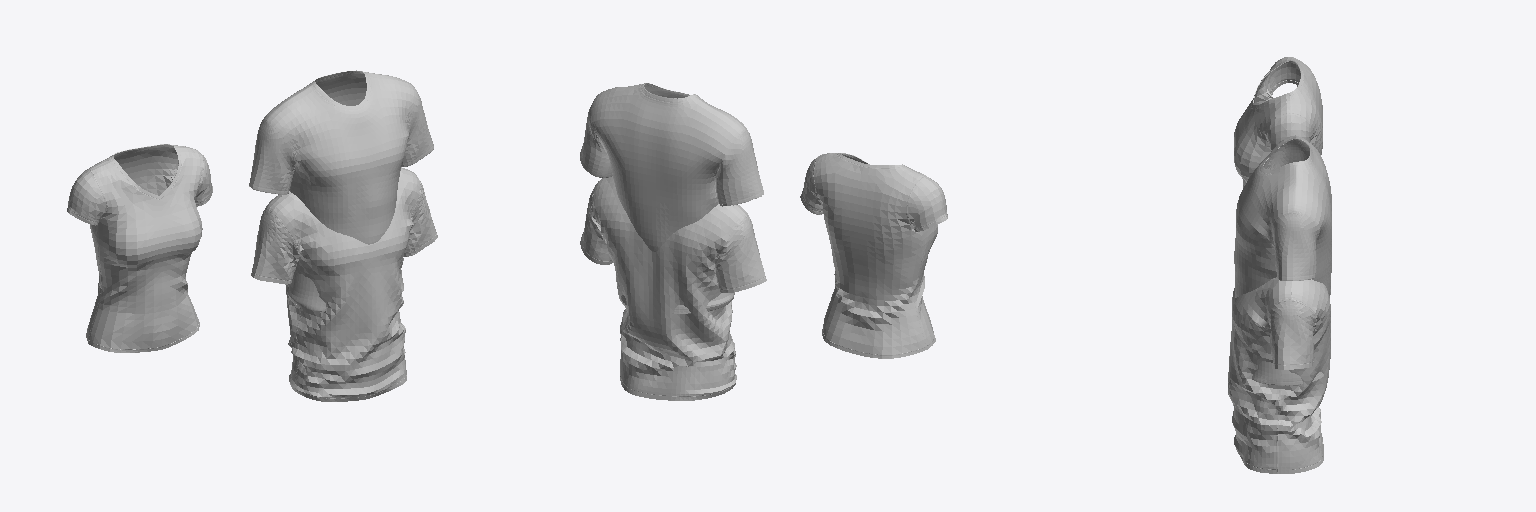
File: shirt_f.obj
3 renders of one model, left to right at view 1: azimuth 30°, elevation 25°; view 2: azimuth 150°, elevation 25°; view 3: azimuth 270°, elevation 25°, orthographic.
Visible parts, largest first — view 1: t+shirts.003, t+shirts.001, t+shirts; view 2: t+shirts.003, t+shirts, t+shirts.001; view 3: t+shirts.003, t+shirts.001, t+shirts.
Part boxes in pixels (x1,y1,x2,y2): t+shirts.003: (251,167,437,401); t+shirts.001: (249,70,433,311); t+shirts: (67,144,212,352); t+shirts.003: (580,176,766,400); t+shirts: (800,153,947,358); t+shirts.001: (580,83,763,313); t+shirts.003: (1228,277,1330,473); t+shirts.001: (1234,135,1331,385); t+shirts: (1234,57,1322,187).
Bounding box in the file's own units: 110 × 86.54 × 27.23.